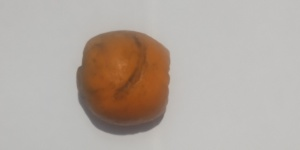BAD: (79, 29, 174, 126)
